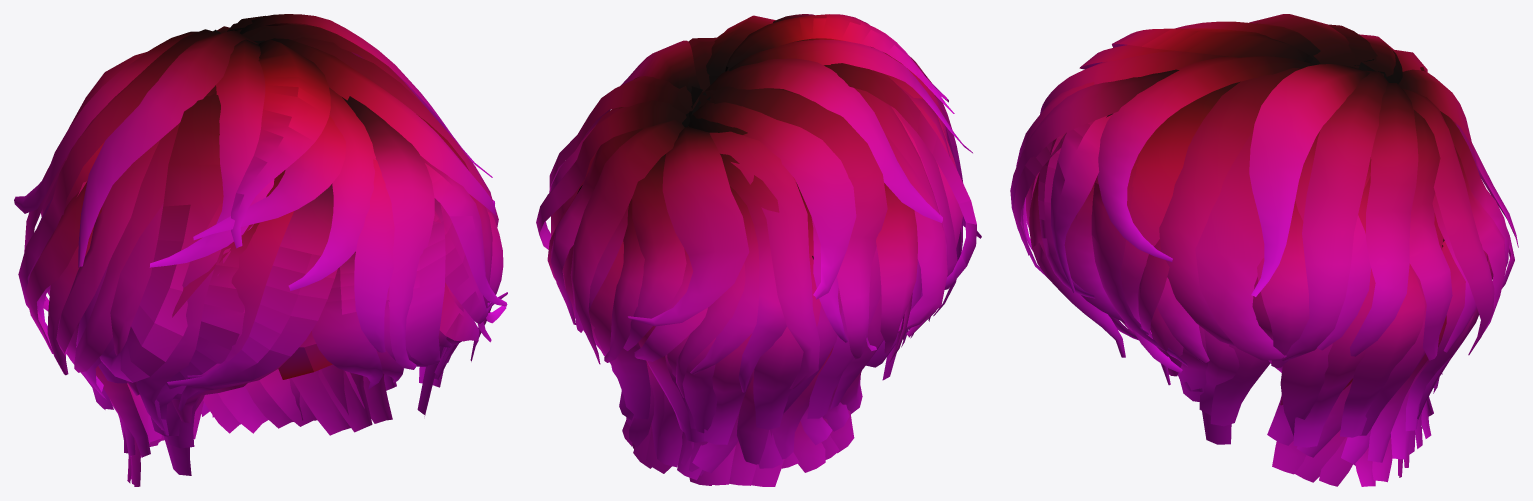
3 views of the same model, side by side, from view 1: azimuth 30°, elevation 25°; view 2: azimuth 150°, elevation 25°; view 3: azimuth 270°, elevation 25° (orthographic). The views are drawn at different scales.
Parts seen in each view (by area): view 1: hair06; view 2: hair06; view 3: hair06.
Boxes of the visible parts, left/top/right/bottom form: hair06: left=14, top=14, right=507, bottom=486; hair06: left=536, top=14, right=981, bottom=486; hair06: left=1010, top=14, right=1518, bottom=486.
Bounding box in the file's own units: 21.57 × 22.1 × 24.19.
